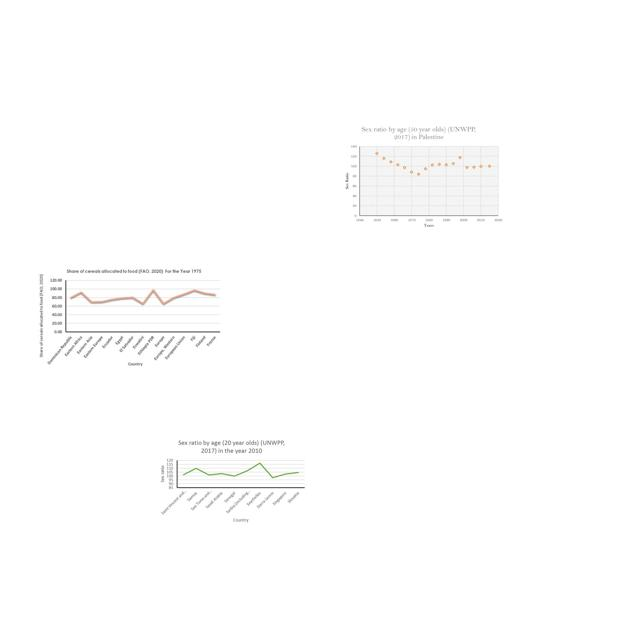Graph: (35, 267, 225, 372), (342, 125, 505, 229), (156, 437, 307, 526)
